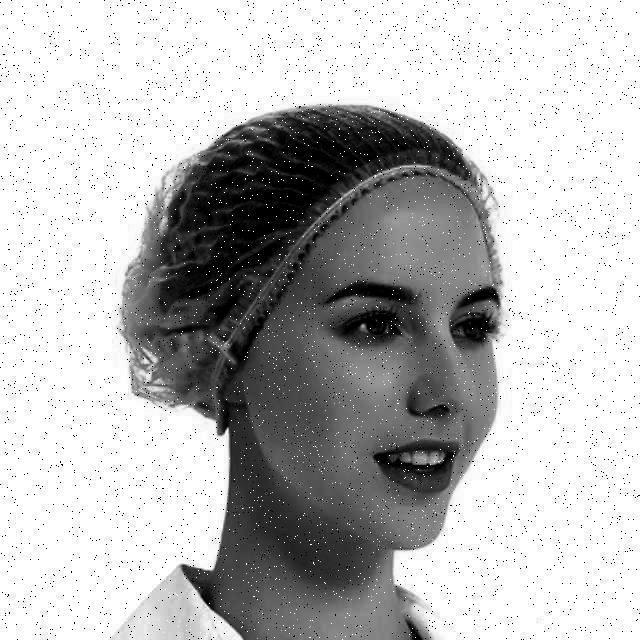gloves: (159, 96, 502, 278)
